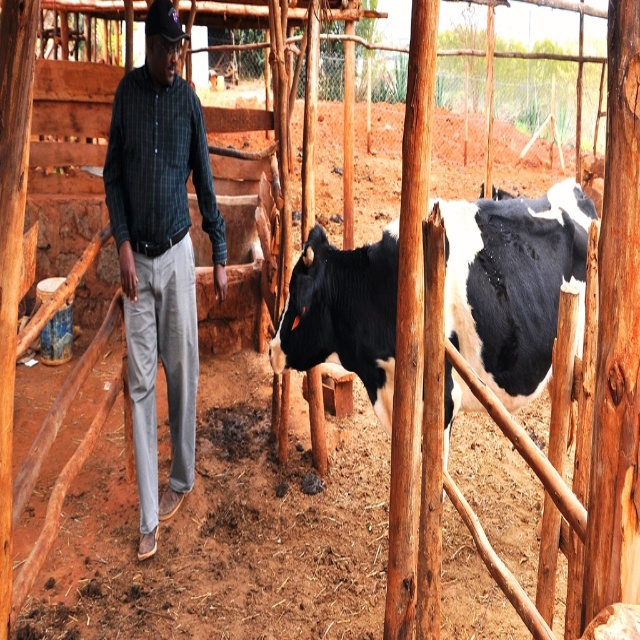Cattle: (268, 175, 602, 505)
